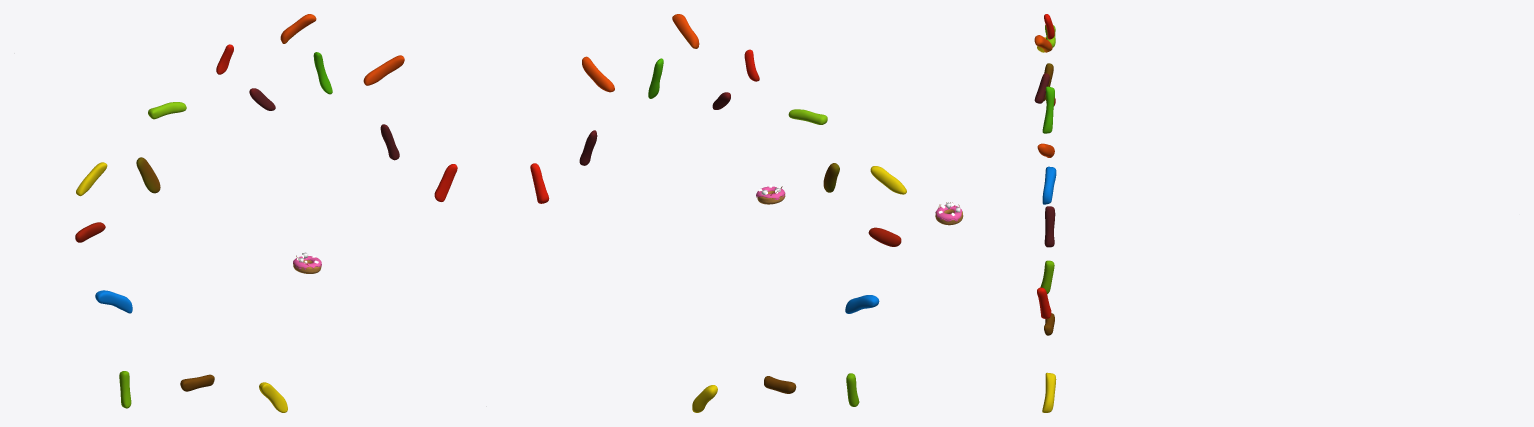
Rendered from donut.glb.
The picture shows the model from 3 angles, left to right: view 1: azimuth 30°, elevation 25°; view 2: azimuth 150°, elevation 25°; view 3: azimuth 270°, elevation 25°; orthographic projection.
Visible parts, largest first — view 1: Toppings; view 2: Toppings; view 3: Toppings.
Part boxes in pixels (left/top/right/bottom): Toppings: left=75, top=14, right=457, bottom=412; Toppings: left=530, top=14, right=906, bottom=412; Toppings: left=1034, top=14, right=1056, bottom=412.
Size of the model in its own units: 1.56 by 1.55 by 2.12.
